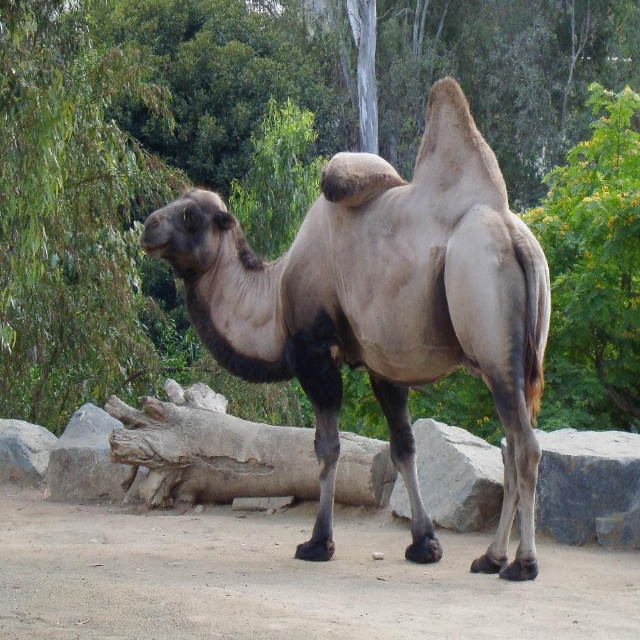Camel: (140, 77, 550, 581)
